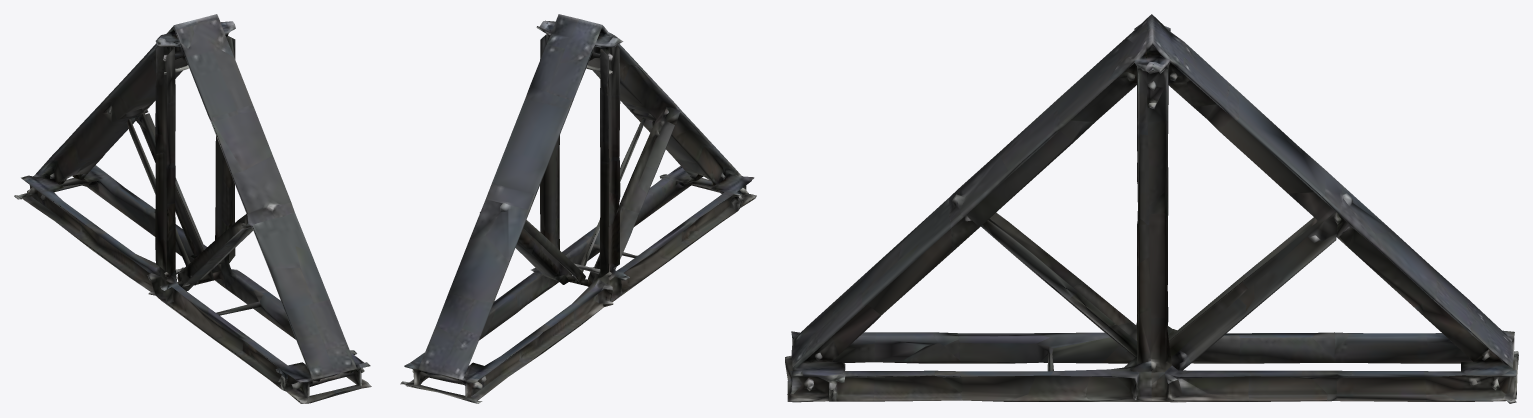
File: roof_truss.glb
3 views of the same model, side by side, from view 1: azimuth 30°, elevation 25°; view 2: azimuth 150°, elevation 25°; view 3: azimuth 270°, elevation 25° (orthographic). The views are drawn at different scales.
Parts seen in each view (by area): view 1: tripo_node_94317b7d-92a2-4dc0-8b37-ae639dffe984; view 2: tripo_node_94317b7d-92a2-4dc0-8b37-ae639dffe984; view 3: tripo_node_94317b7d-92a2-4dc0-8b37-ae639dffe984.
Boxes of the visible parts, <box> form: tripo_node_94317b7d-92a2-4dc0-8b37-ae639dffe984: <box>14,14,371,403</box>; tripo_node_94317b7d-92a2-4dc0-8b37-ae639dffe984: <box>400,14,756,403</box>; tripo_node_94317b7d-92a2-4dc0-8b37-ae639dffe984: <box>785,14,1518,403</box>.
Bounding box in the file's own units: 0.1651 × 0.5302 × 0.9972.
1 material, 1 textured.
